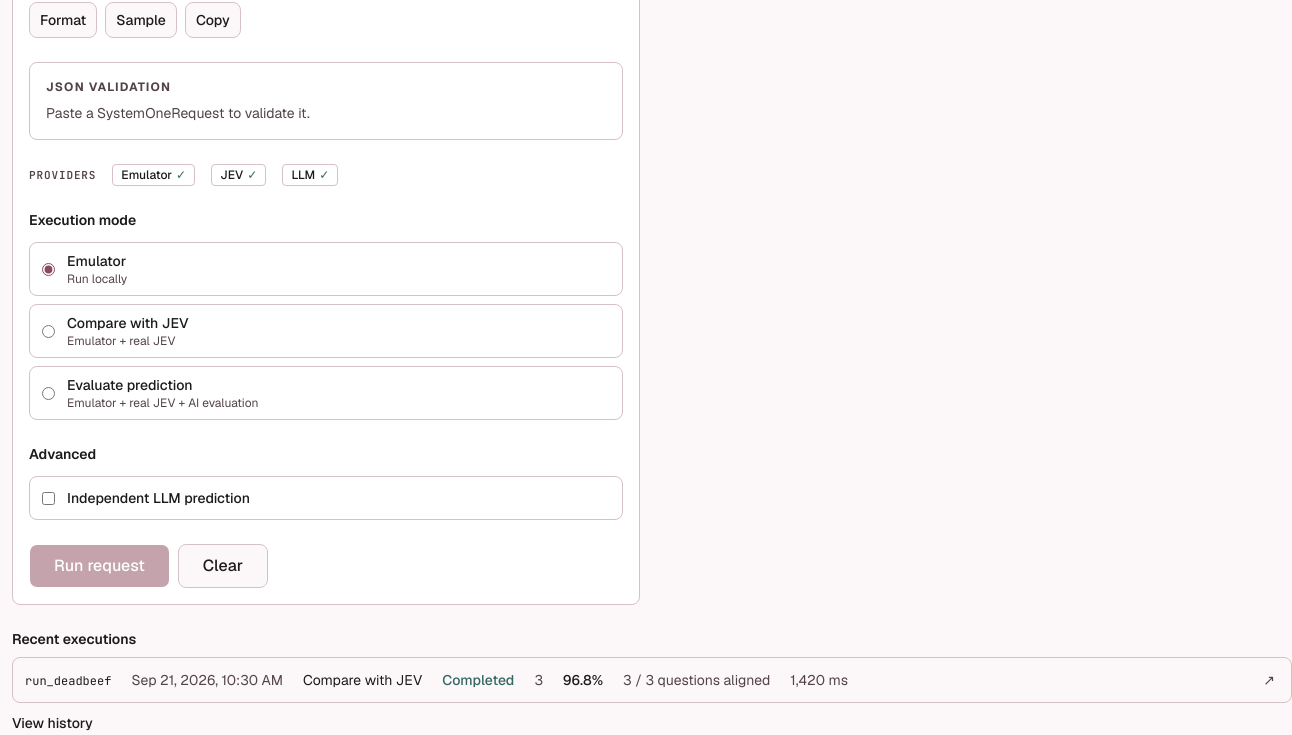
Scenario: PrincipalView — P45 hydration landings set the session case (T1.2) › does NOT set the session case when the hydration detail GET 404s
The image size is (1292, 735).
(page scrolled)
Click the button with aria-label "Load execution run_deadbeef — Compare with JEV, Completed".
click(630, 680)  # box [13,660,1247,700]
(page scrolled)
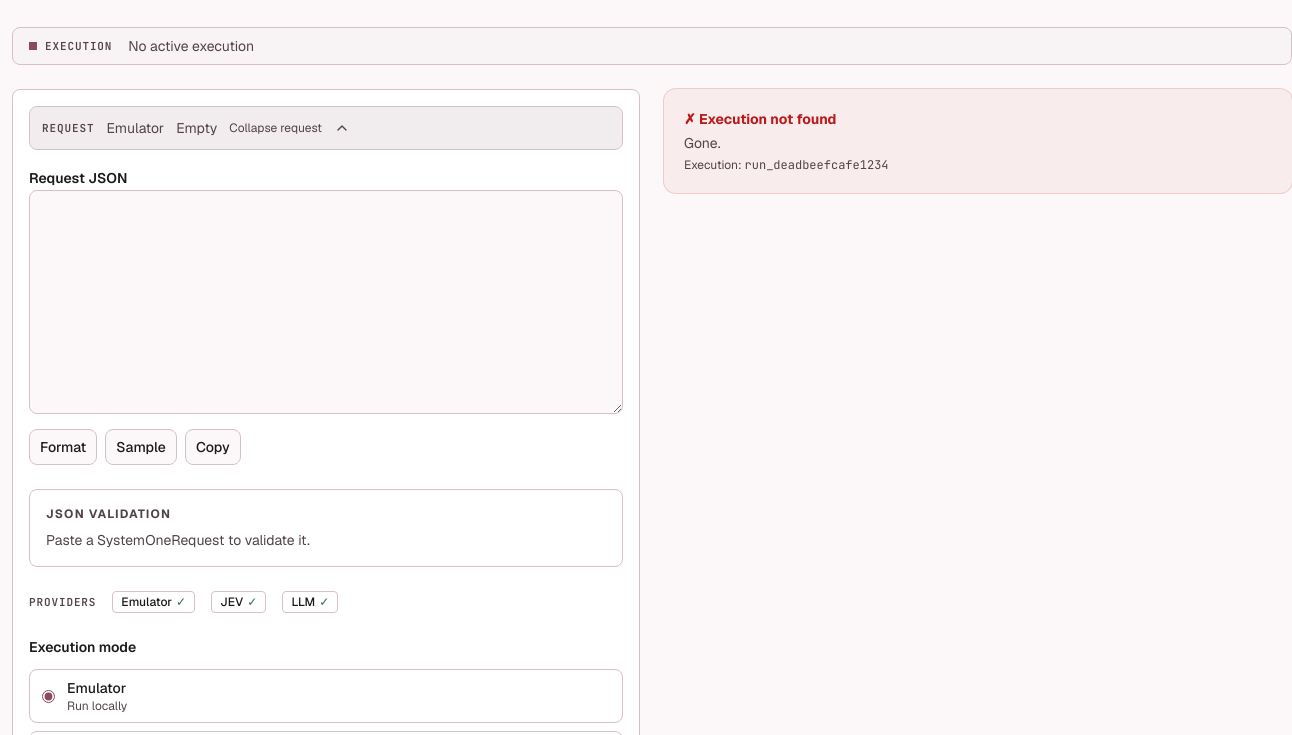
Result: the text "✗ Execution not found" is shown at [684,110,836,128]
